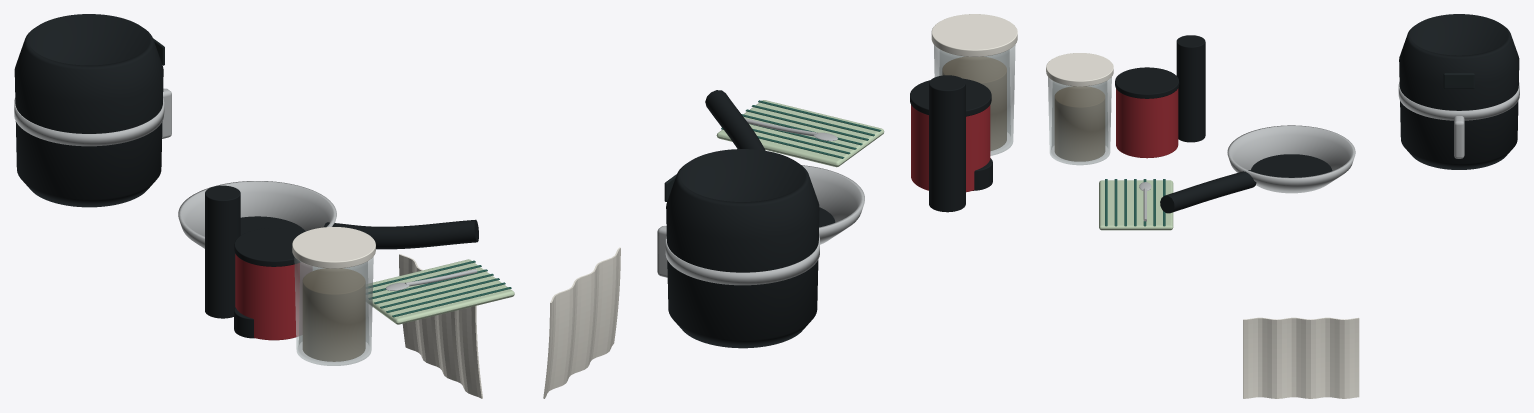
The picture shows the model from 3 angles, left to right: view 1: azimuth 30°, elevation 25°; view 2: azimuth 150°, elevation 25°; view 3: azimuth 270°, elevation 25°; orthographic projection. The views are drawn at different scales.
Parts seen in each view (by area): view 1: source_rounded_black_appliance_shell, source_clear_food_jar, source_food_jar_bulk_inferred, source_oven_hanging_towel, source_hollow_frying_pan, source_red_tin, source_tall_black_grinder, source_folded_green_cloth, source_food_jar_white_lid, source_pan_handle, source_red_tin_black_rim, source_appliance_steel_horizontal_band (+3 smaller); view 2: source_rounded_black_appliance_shell, source_oven_hanging_towel, source_tall_black_grinder, source_folded_green_cloth, source_clear_food_jar, source_food_jar_white_lid, source_red_tin, source_hollow_frying_pan, source_food_jar_bulk_inferred, source_appliance_steel_horizontal_band, source_pan_handle, source_red_tin_black_rim (+2 smaller); view 3: source_rounded_black_appliance_shell, source_oven_hanging_towel, source_hollow_frying_pan, source_clear_food_jar, source_red_tin, source_food_jar_bulk_inferred, source_tall_black_grinder, source_folded_green_cloth, source_food_jar_white_lid, source_pan_handle, source_red_tin_black_rim, source_pan_dark_inner_bottom (+3 smaller).
Boxes of the visible parts, box(x1,y1,x2,y2) form: source_rounded_black_appliance_shell: box(14, 14, 163, 207); source_clear_food_jar: box(294, 257, 373, 365); source_food_jar_bulk_inferred: box(303, 268, 365, 361); source_oven_hanging_towel: box(399, 254, 482, 398); source_hollow_frying_pan: box(178, 181, 336, 248); source_red_tin: box(235, 254, 300, 340); source_tall_black_grinder: box(205, 185, 240, 318); source_folded_green_cloth: box(368, 259, 514, 324); source_food_jar_white_lid: box(292, 227, 375, 268); source_pan_handle: box(324, 219, 478, 249); source_red_tin_black_rim: box(234, 228, 301, 266); source_appliance_steel_horizontal_band: box(14, 98, 164, 146); source_rounded_black_appliance_shell: box(666, 149, 819, 348); source_oven_hanging_towel: box(543, 247, 620, 398); source_tall_black_grinder: box(929, 75, 965, 212); source_folded_green_cloth: box(716, 100, 884, 167); source_clear_food_jar: box(934, 44, 1015, 155); source_food_jar_white_lid: box(931, 14, 1017, 56); source_red_tin: box(911, 105, 990, 192); source_hollow_frying_pan: box(801, 165, 864, 244); source_food_jar_bulk_inferred: box(942, 57, 1006, 150); source_appliance_steel_horizontal_band: box(665, 235, 819, 285); source_pan_handle: box(705, 90, 765, 150); source_red_tin_black_rim: box(910, 78, 991, 116); source_rounded_black_appliance_shell: box(1399, 14, 1519, 169); source_oven_hanging_towel: box(1243, 317, 1359, 398); source_hollow_frying_pan: box(1227, 125, 1355, 193); source_clear_food_jar: box(1048, 77, 1111, 165); source_red_tin: box(1116, 88, 1178, 158); source_food_jar_bulk_inferred: box(1055, 86, 1104, 161); source_tall_black_grinder: box(1176, 35, 1205, 142); source_folded_green_cloth: box(1099, 180, 1173, 230); source_food_jar_white_lid: box(1046, 53, 1113, 86); source_pan_handle: box(1160, 170, 1256, 213); source_red_tin_black_rim: box(1115, 67, 1179, 98); source_pan_dark_inner_bottom: box(1251, 154, 1332, 177).
Bounding box in the file's own units: 0.6905 × 0.6582 × 1.08.
